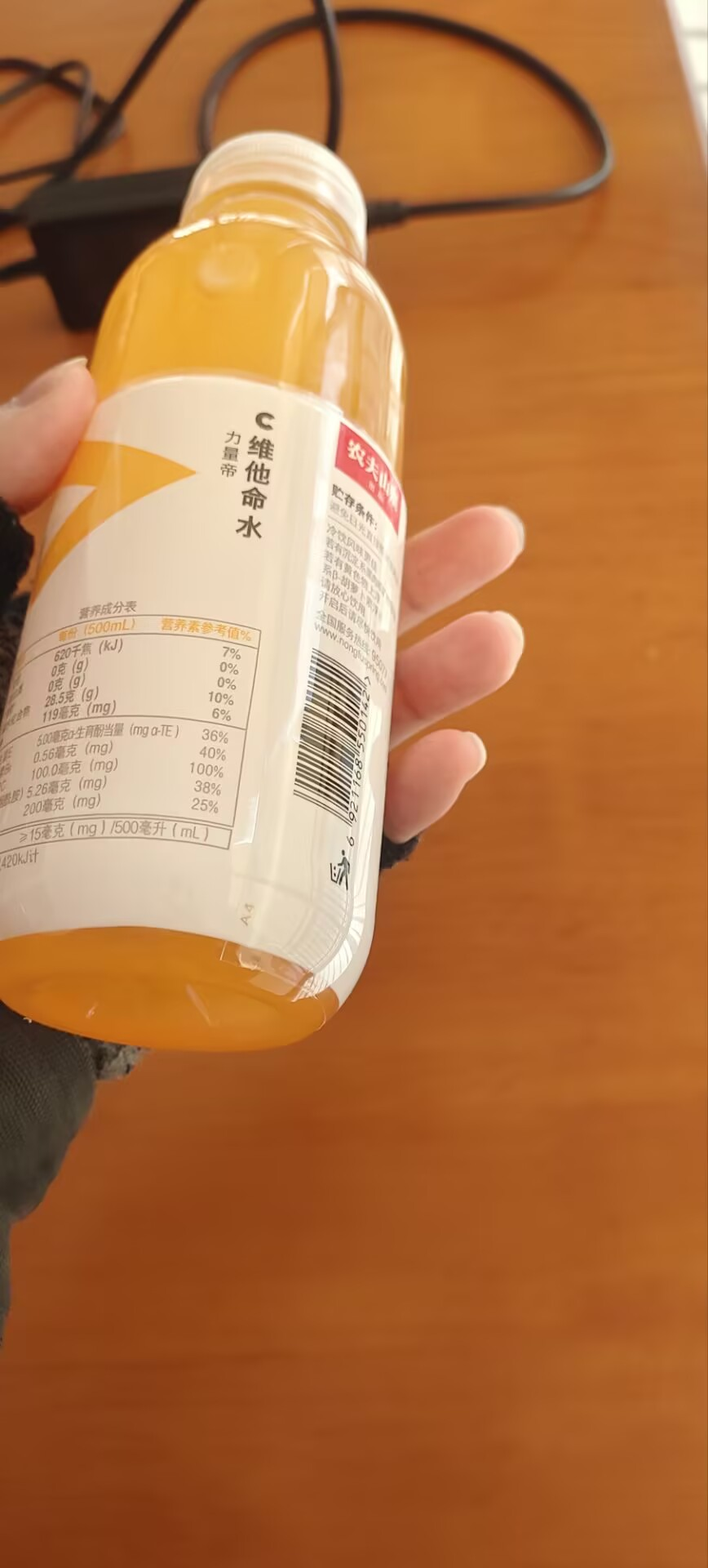redbull: (51, 118, 392, 1041)
